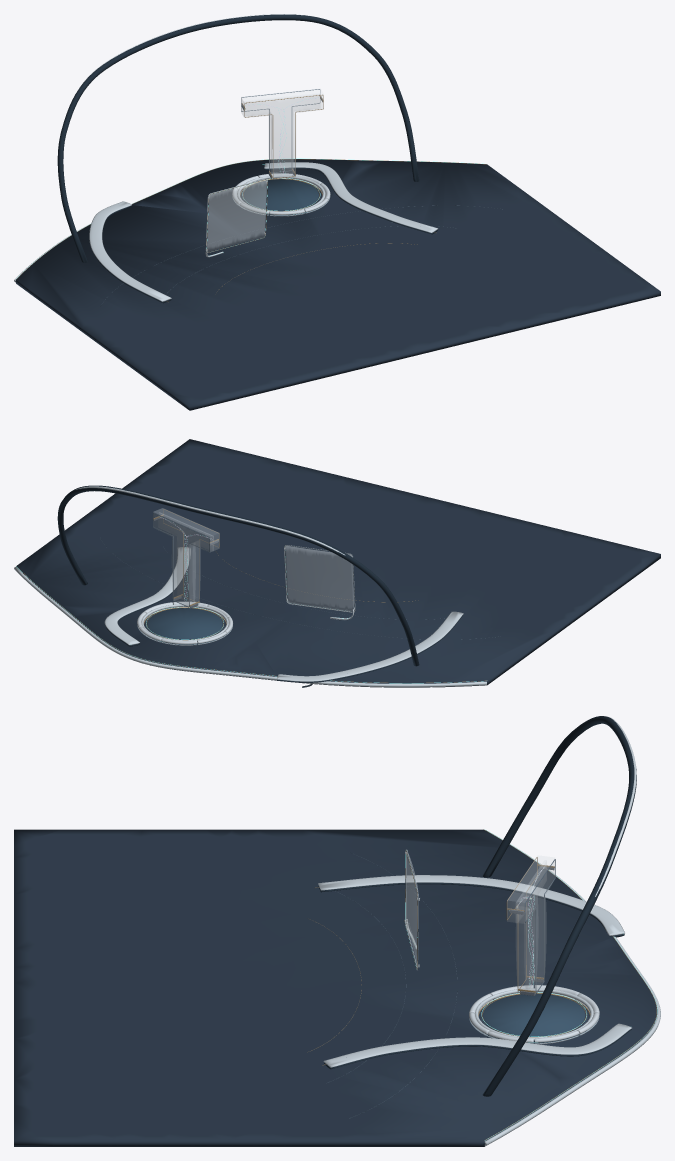
The model's file is tem-refined-observatory-v21-lod.glb.
3 views of the same model, one above another, from view 1: azimuth 30°, elevation 25°; view 2: azimuth 150°, elevation 25°; view 3: azimuth 270°, elevation 25° (orthographic). The views are drawn at different scales.
Visible parts, largest first — view 1: CABIN_V19_FLOOR_V19 — V21 polished optical basalt, CABIN_V19_V21_DARK_PRESSURE — shadow ceramic, CABIN_V19_V21_PEARL_CERAMIC — translucent enamel, T_IDENTITY_V19_GLASS_V19 — V21 thick optical crystal, SURFACE_FRAME_V19_GLASS_V19 — V21 pressure display front, SURFACE_FRAME_V19_GLASS_V19 — V21 internal display lamina, T_IDENTITY_V19_GLASS_V19 — V21 internal dichroic lamina, CABIN_V19_GLASS_V19 — V21 platform optical lens, CABIN_V19_V21_PLINTH_PEARL — satin electroceramic, CABIN_V19_V21_CHAMPAGNE — fine contact plating; view 2: CABIN_V19_FLOOR_V19 — V21 polished optical basalt, CABIN_V19_V21_PEARL_CERAMIC — translucent enamel, SURFACE_FRAME_V19_GLASS_V19 — V21 pressure display front, SURFACE_FRAME_V19_GLASS_V19 — V21 internal display lamina, CABIN_V19_V21_DARK_PRESSURE — shadow ceramic, T_IDENTITY_V19_GLASS_V19 — V21 thick optical crystal, CABIN_V19_GLASS_V19 — V21 platform optical lens, T_IDENTITY_V19_GLASS_V19 — V21 internal dichroic lamina, CABIN_V19_V21_PLINTH_PEARL — satin electroceramic, CABIN_V19_V21_CHAMPAGNE — fine contact plating; view 3: CABIN_V19_FLOOR_V19 — V21 polished optical basalt, CABIN_V19_V21_PEARL_CERAMIC — translucent enamel, CABIN_V19_V21_DARK_PRESSURE — shadow ceramic, T_IDENTITY_V19_GLASS_V19 — V21 thick optical crystal, CABIN_V19_GLASS_V19 — V21 platform optical lens, CABIN_V19_V21_PLINTH_PEARL — satin electroceramic, T_IDENTITY_V19_GLASS_V19 — V21 internal dichroic lamina, SURFACE_FRAME_V19_GLASS_V19 — V21 pressure display front, CABIN_V19_V21_CHAMPAGNE — fine contact plating, SURFACE_FRAME_V19_GLASS_V19 — V21 internal display lamina.
Boxes of the visible parts, x1=… form: CABIN_V19_FLOOR_V19 — V21 polished optical basalt: x1=16, y1=159, x2=660, y2=410; CABIN_V19_V21_DARK_PRESSURE — shadow ceramic: x1=15, y1=14, x2=437, y2=303; CABIN_V19_V21_PEARL_CERAMIC — translucent enamel: x1=14, y1=14, x2=438, y2=301; T_IDENTITY_V19_GLASS_V19 — V21 thick optical crystal: x1=241, y1=88, x2=323, y2=179; SURFACE_FRAME_V19_GLASS_V19 — V21 pressure display front: x1=207, y1=180, x2=267, y2=252; SURFACE_FRAME_V19_GLASS_V19 — V21 internal display lamina: x1=207, y1=180, x2=266, y2=251; T_IDENTITY_V19_GLASS_V19 — V21 internal dichroic lamina: x1=245, y1=93, x2=319, y2=174; CABIN_V19_GLASS_V19 — V21 platform optical lens: x1=235, y1=179, x2=329, y2=215; CABIN_V19_V21_PLINTH_PEARL — satin electroceramic: x1=232, y1=173, x2=330, y2=216; CABIN_V19_V21_CHAMPAGNE — fine contact plating: x1=17, y1=159, x2=485, y2=302; CABIN_V19_FLOOR_V19 — V21 polished optical basalt: x1=16, y1=439, x2=660, y2=687; CABIN_V19_V21_PEARL_CERAMIC — translucent enamel: x1=14, y1=486, x2=486, y2=687; SURFACE_FRAME_V19_GLASS_V19 — V21 pressure display front: x1=285, y1=546, x2=354, y2=611; SURFACE_FRAME_V19_GLASS_V19 — V21 internal display lamina: x1=285, y1=546, x2=353, y2=610; CABIN_V19_V21_DARK_PRESSURE — shadow ceramic: x1=57, y1=485, x2=487, y2=683; T_IDENTITY_V19_GLASS_V19 — V21 thick optical crystal: x1=153, y1=508, x2=219, y2=607; CABIN_V19_GLASS_V19 — V21 platform optical lens: x1=138, y1=608, x2=231, y2=644; T_IDENTITY_V19_GLASS_V19 — V21 internal dichroic lamina: x1=159, y1=513, x2=213, y2=603; CABIN_V19_V21_PLINTH_PEARL — satin electroceramic: x1=137, y1=601, x2=232, y2=645; CABIN_V19_V21_CHAMPAGNE — fine contact plating: x1=16, y1=552, x2=486, y2=682; CABIN_V19_FLOOR_V19 — V21 polished optical basalt: x1=14, y1=829, x2=657, y2=1146; CABIN_V19_V21_PEARL_CERAMIC — translucent enamel: x1=318, y1=717, x2=660, y2=1145; CABIN_V19_V21_DARK_PRESSURE — shadow ceramic: x1=318, y1=716, x2=636, y2=1144; T_IDENTITY_V19_GLASS_V19 — V21 thick optical crystal: x1=507, y1=855, x2=554, y2=994; CABIN_V19_GLASS_V19 — V21 platform optical lens: x1=469, y1=994, x2=598, y2=1043; CABIN_V19_V21_PLINTH_PEARL — satin electroceramic: x1=469, y1=985, x2=599, y2=1044; T_IDENTITY_V19_GLASS_V19 — V21 internal dichroic lamina: x1=516, y1=860, x2=546, y2=989; SURFACE_FRAME_V19_GLASS_V19 — V21 pressure display front: x1=405, y1=852, x2=417, y2=964; CABIN_V19_V21_CHAMPAGNE — fine contact plating: x1=307, y1=829, x2=656, y2=1140; SURFACE_FRAME_V19_GLASS_V19 — V21 internal display lamina: x1=407, y1=857, x2=416, y2=957.
Size of the model in its own units: 94.38 by 31.94 by 82.56.
